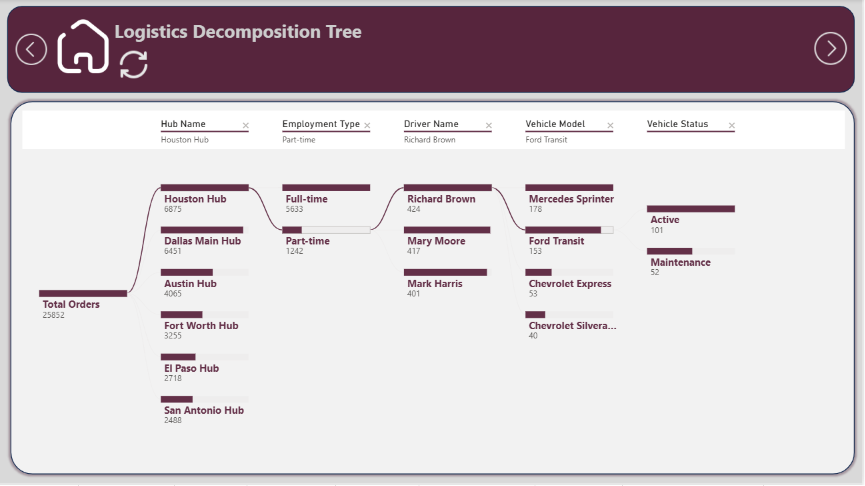

The page's visual inventory and layout, read from the dashboard file:
{"tool":"powerbi","page":{"name":"Dcomp. Tree","canvas":[1280,720],"ordinal":5},"visuals":[{"type":"image","box":[1205.7,40.3,52.6,66.6],"z":0},{"type":"image","box":[175,71.3,50.8,50.8],"z":2000},{"type":"textbox","box":[167,24.3,385.4,61.4],"z":3000},{"type":"image","box":[84,23.8,82.4,91.9],"z":4000},{"type":"image","box":[3.2,49.1,90.3,50.7],"z":5000},{"type":"decompositionTreeVisual","fields":{"Analyze":["_Measures.Total Orders"],"ExplainBy":["Hubs.Hub Name","Drivers.Employment Type","Drivers.Driver Name","Vehicles.Vehicle Model","Vehicles.Vehicle Status"]},"box":[30.1,160,1227.9,532.4],"z":6000}]}

Visuals, with their boxes in screenshot pixels (x1, y1, x2, y2), scaled from the page's 1280x720 canvas onto the 865x486 screenshot:
image: rect(815, 27, 850, 72)
image: rect(118, 48, 153, 82)
textbox: rect(113, 16, 373, 58)
image: rect(57, 16, 112, 78)
image: rect(2, 33, 63, 67)
decompositionTreeVisual - _Measures.Total Orders x Hubs.Hub Name: rect(20, 108, 850, 467)
